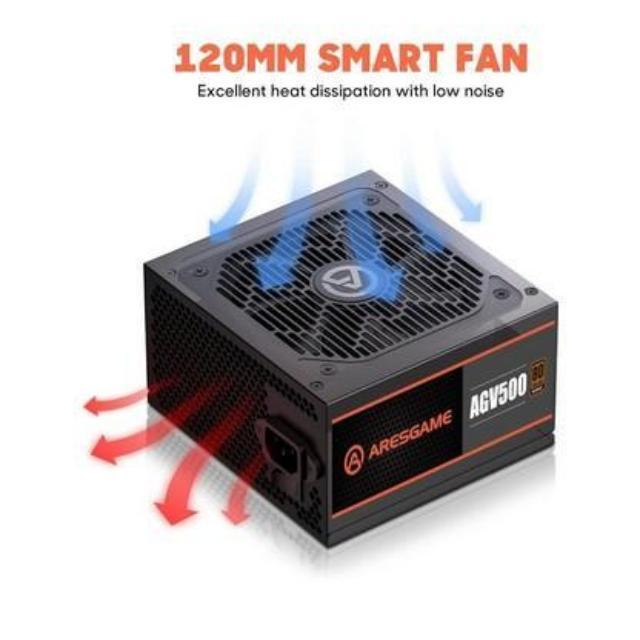PSU: (134, 158, 564, 560)
